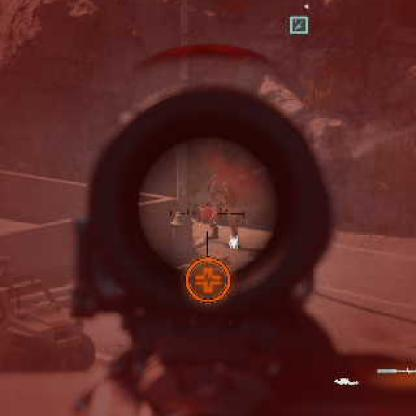enemy: (208, 173, 240, 242)
